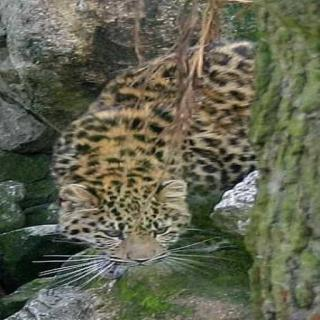Leopard: (42, 46, 228, 290)
